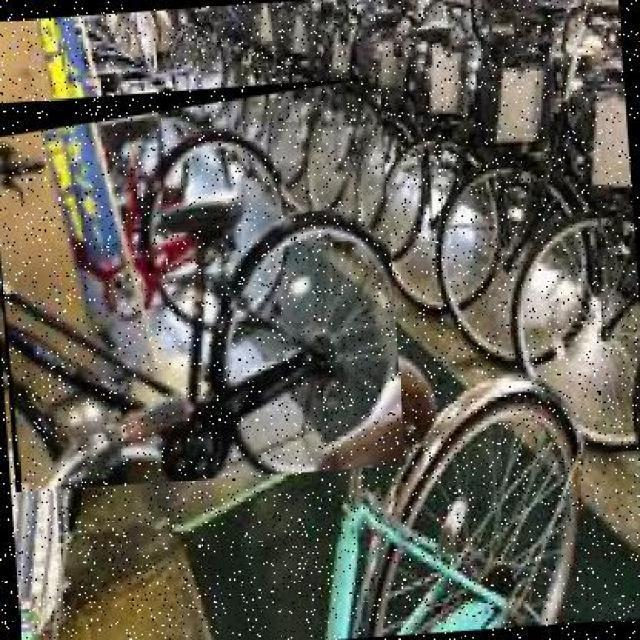bicycle: (1, 78, 407, 497)
